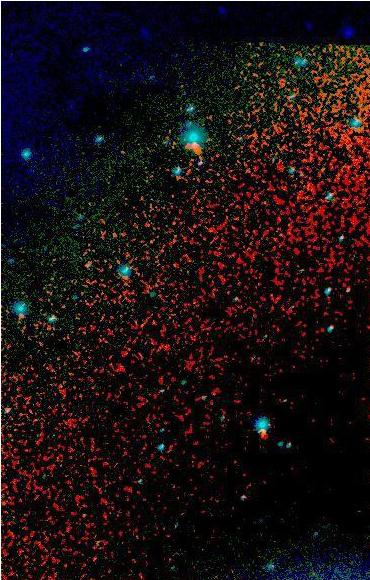star: (179, 132, 209, 162)
